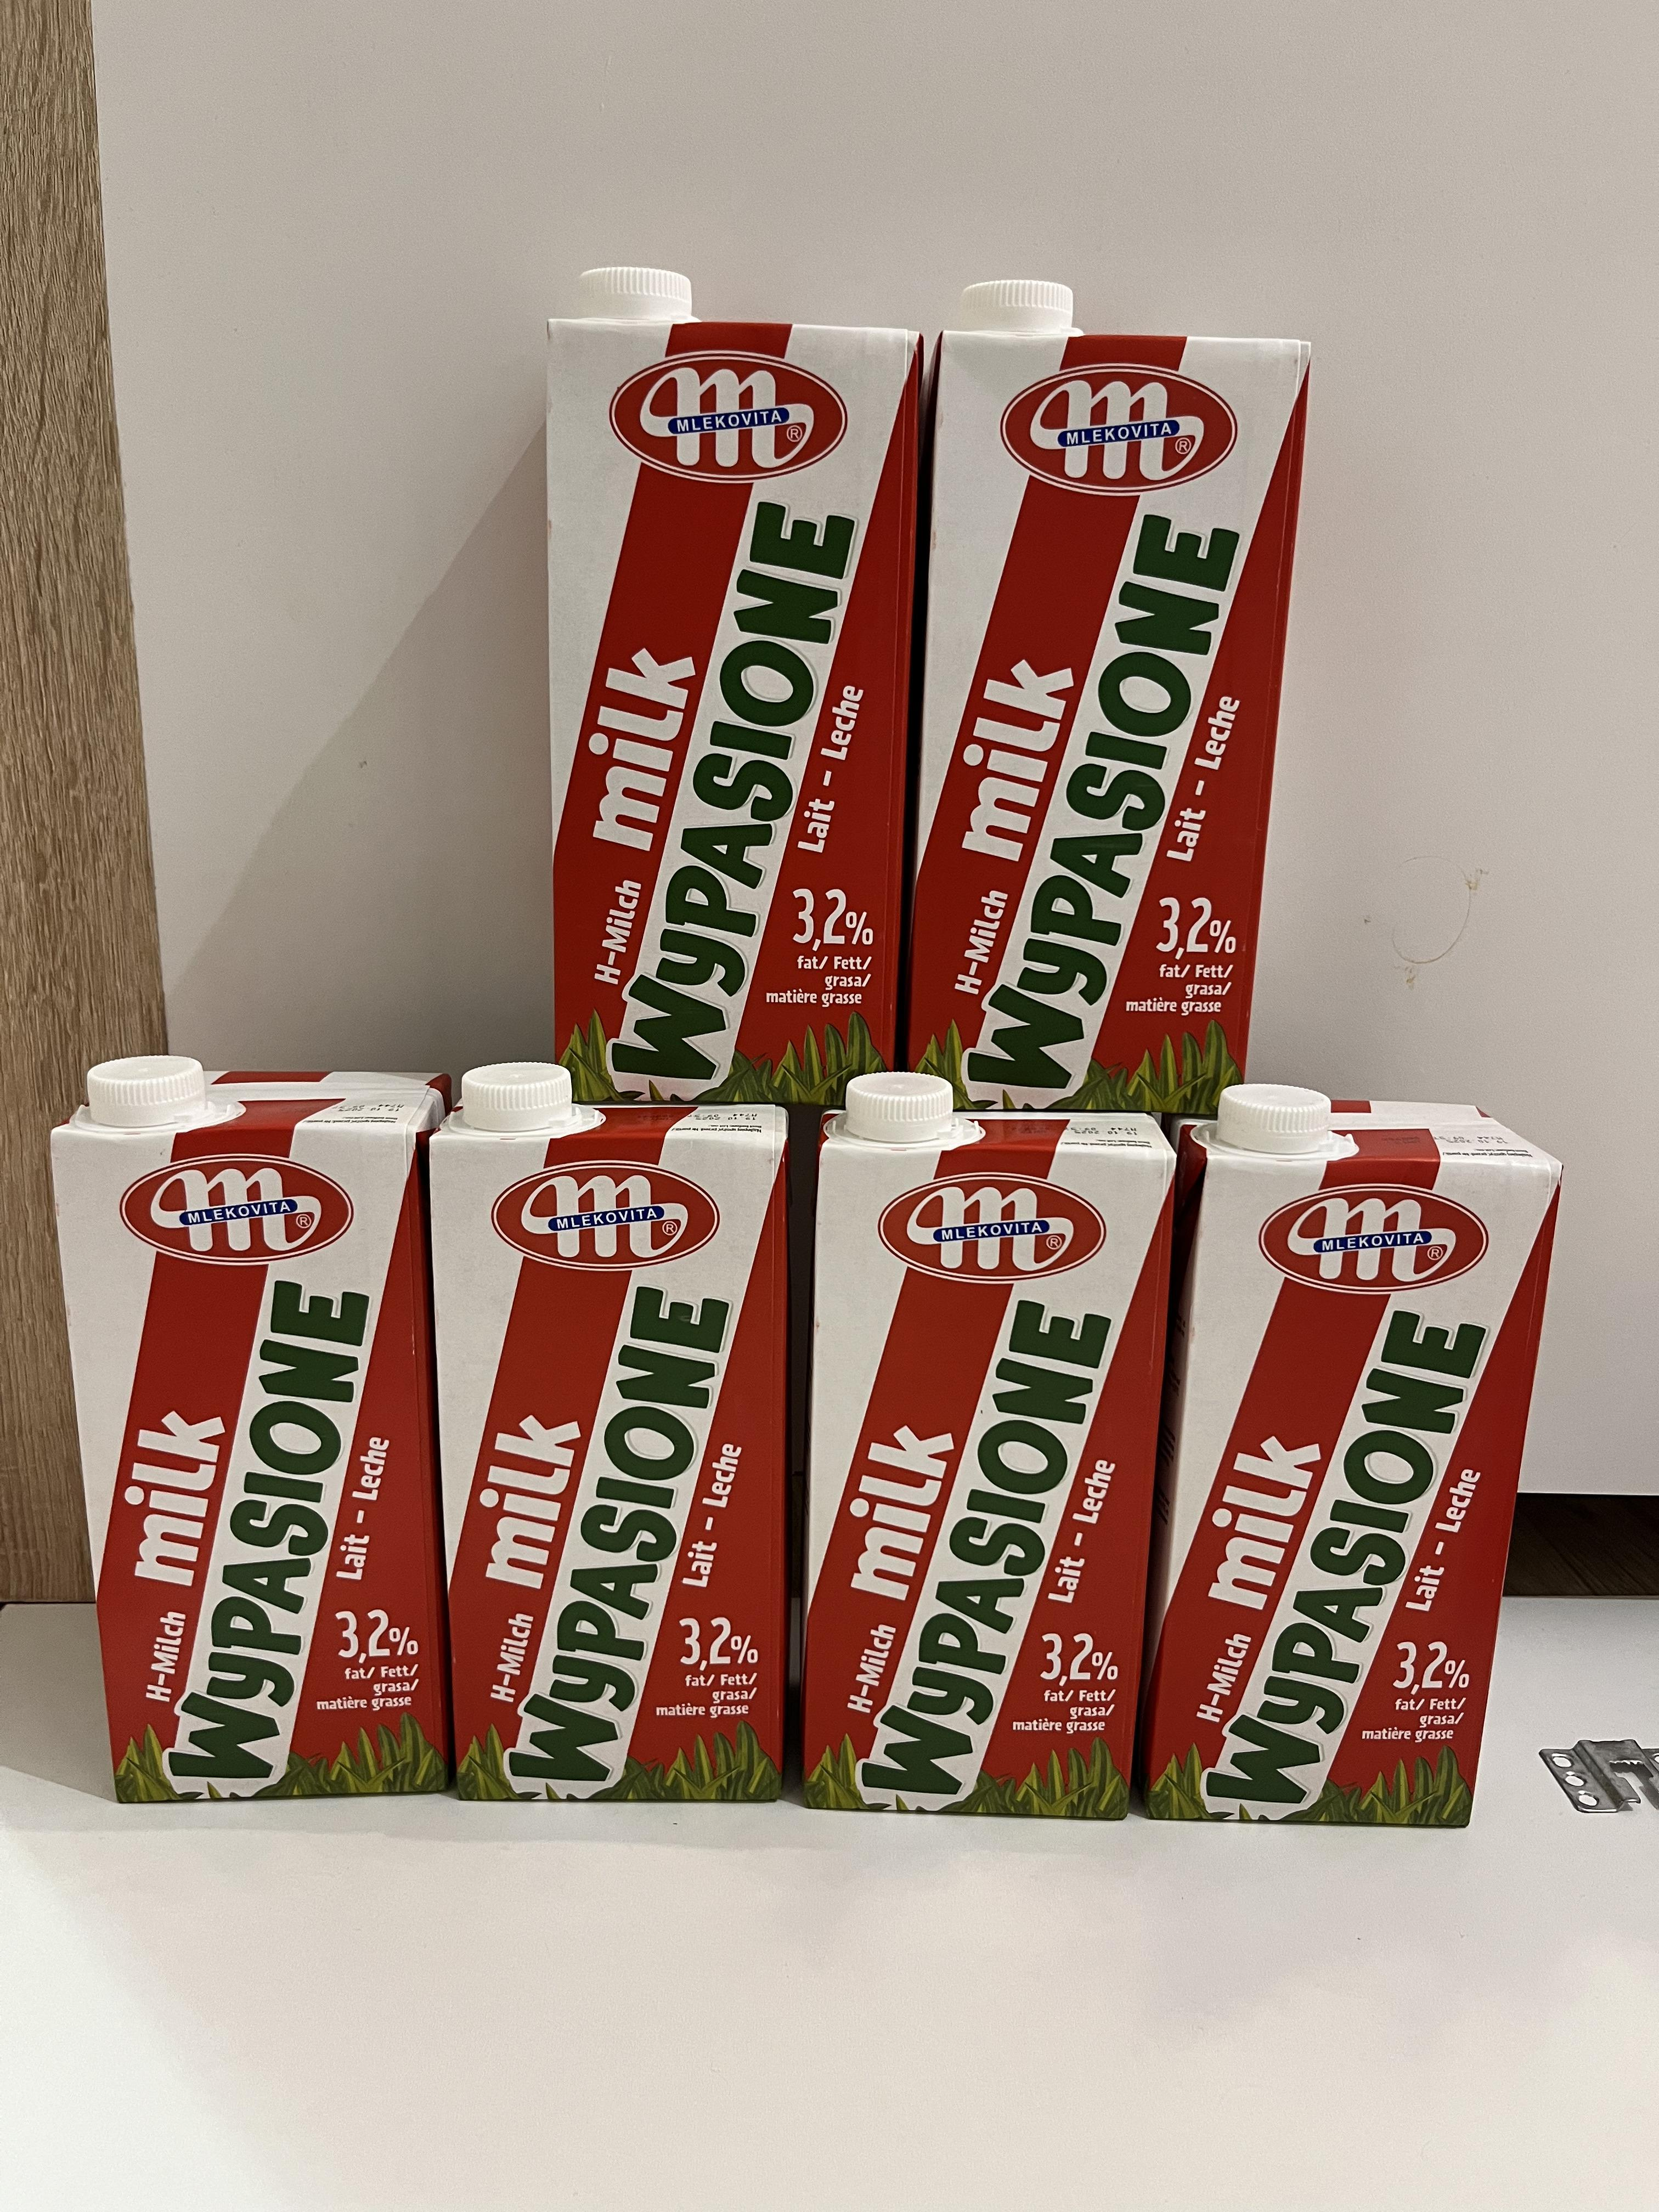Milk: (936, 312, 1323, 1082), (556, 300, 924, 1092), (96, 1064, 458, 1810), (446, 1092, 796, 1804), (823, 1090, 1143, 1810), (1201, 1104, 1490, 1848)
